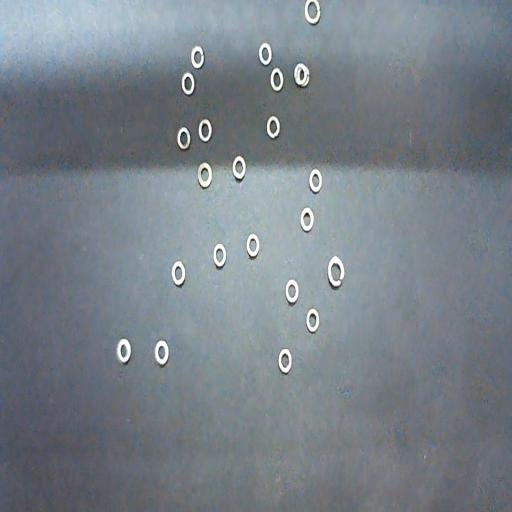washer: (327, 256, 345, 288), (304, 1, 320, 25), (294, 63, 310, 87), (198, 162, 212, 188), (155, 340, 169, 366), (117, 338, 131, 364), (308, 168, 322, 193), (300, 207, 314, 232), (306, 308, 320, 333), (278, 349, 292, 374), (258, 42, 272, 66), (270, 68, 284, 92), (232, 156, 246, 180), (285, 280, 299, 304), (246, 234, 260, 258), (182, 71, 195, 96), (213, 243, 226, 268), (191, 45, 204, 69), (199, 118, 212, 142), (172, 262, 185, 286), (178, 127, 190, 150), (267, 116, 279, 138)
